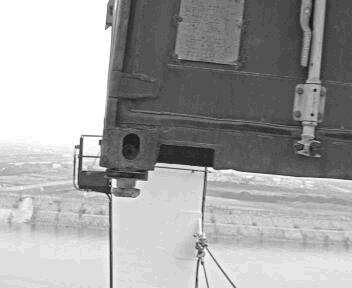twist_lock_1: (99, 163, 156, 205)
